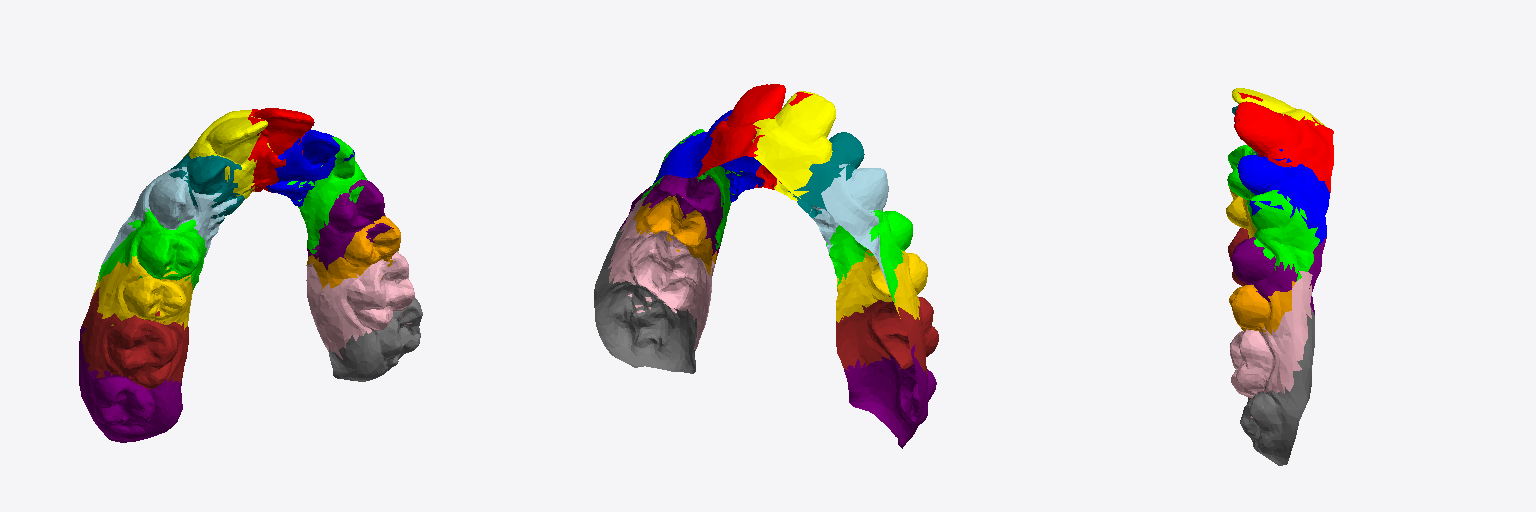
File: Sample__predicted.obj
The picture shows the model from 3 angles: view 1: azimuth 30°, elevation 25°; view 2: azimuth 150°, elevation 25°; view 3: azimuth 270°, elevation 25°; orthographic projection.
Size of the model in its own units: 61.98 by 56.18 by 17.72.